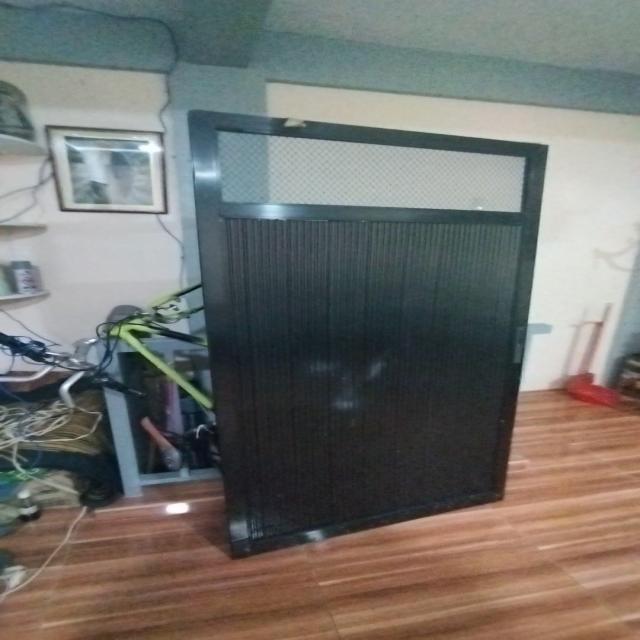door: (180, 105, 546, 552)
